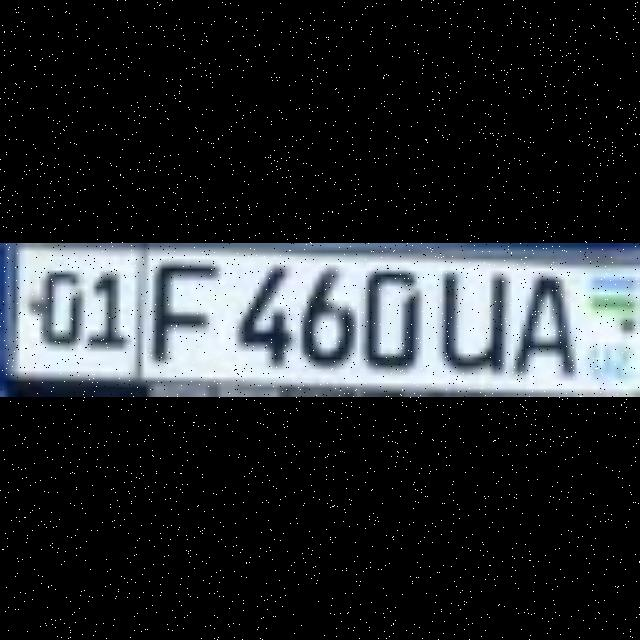0: (432, 266, 498, 374), (356, 266, 414, 362), (36, 266, 76, 344)
1: (84, 266, 124, 344)
4: (232, 260, 296, 362)
6: (290, 260, 344, 356)
A: (509, 266, 568, 374)
F: (142, 254, 214, 356)
